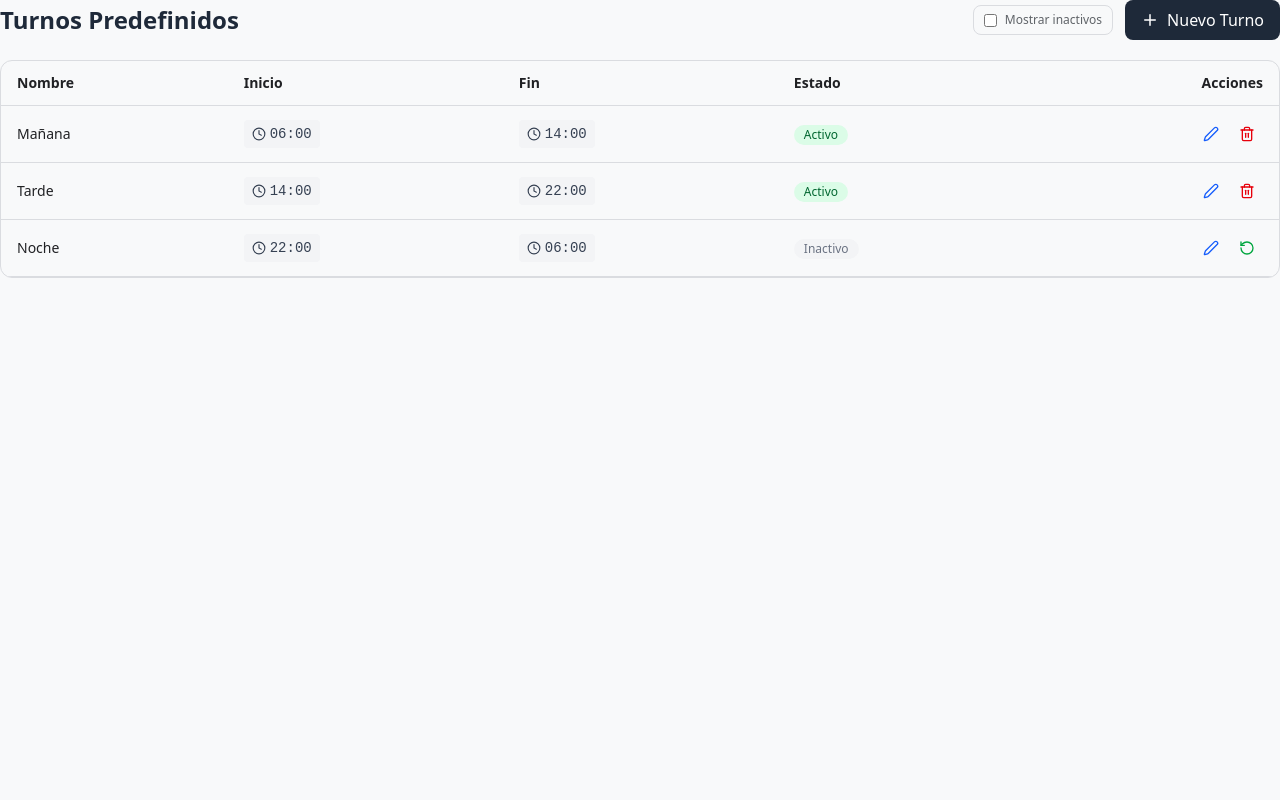
Test: ShiftPresetsPage › abre modal al hacer click en Nuevo Turno
The image size is (1280, 800).
Click the button "Nuevo Turno" at {"x": 1203, "y": 20}, box [1125,0,1279,40]
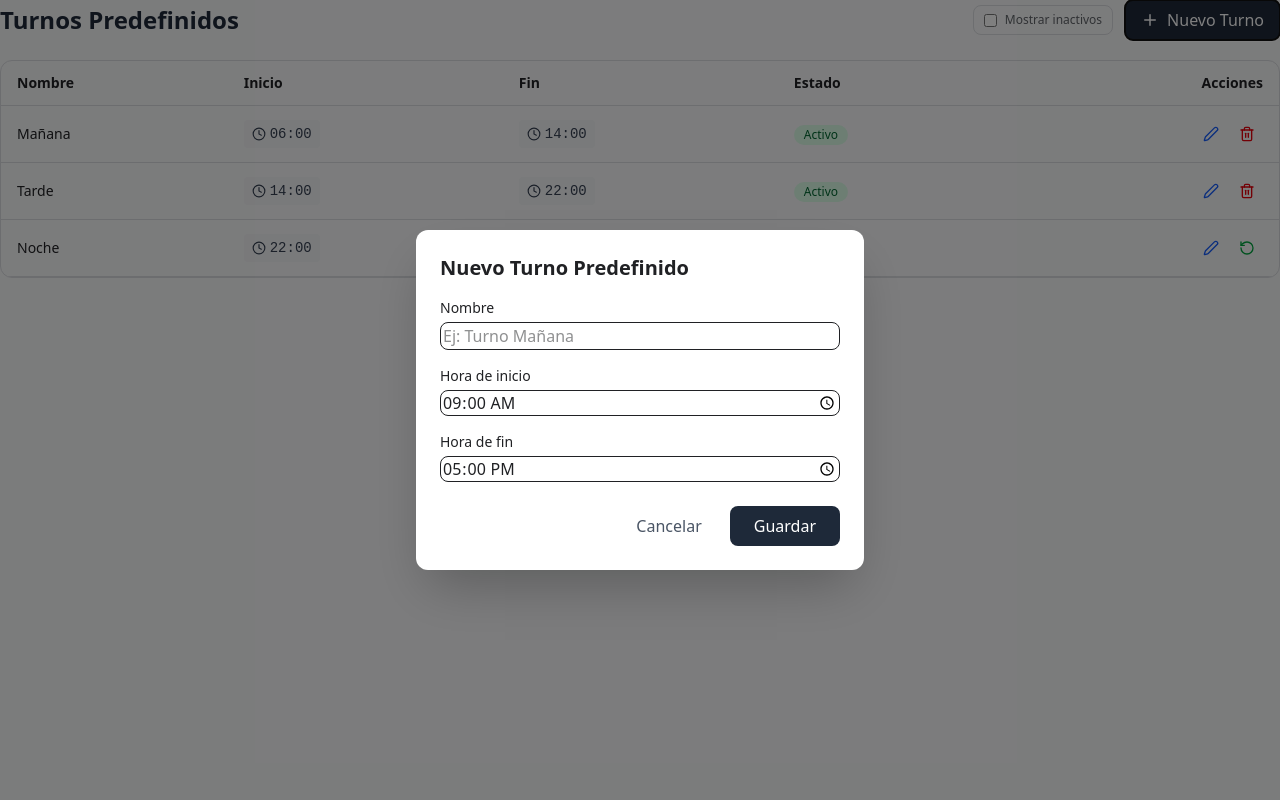
Now the heading "Nuevo Turno Predefinido" is shown, box [440,254,689,281]
